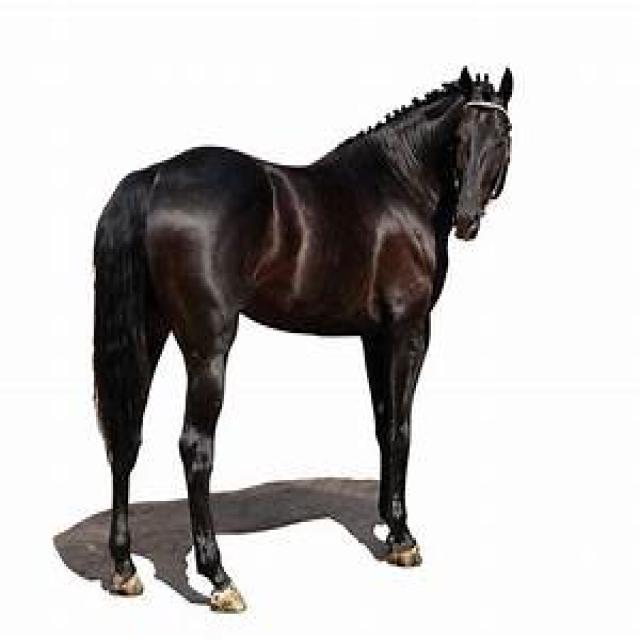horse: (94, 69, 509, 611)
